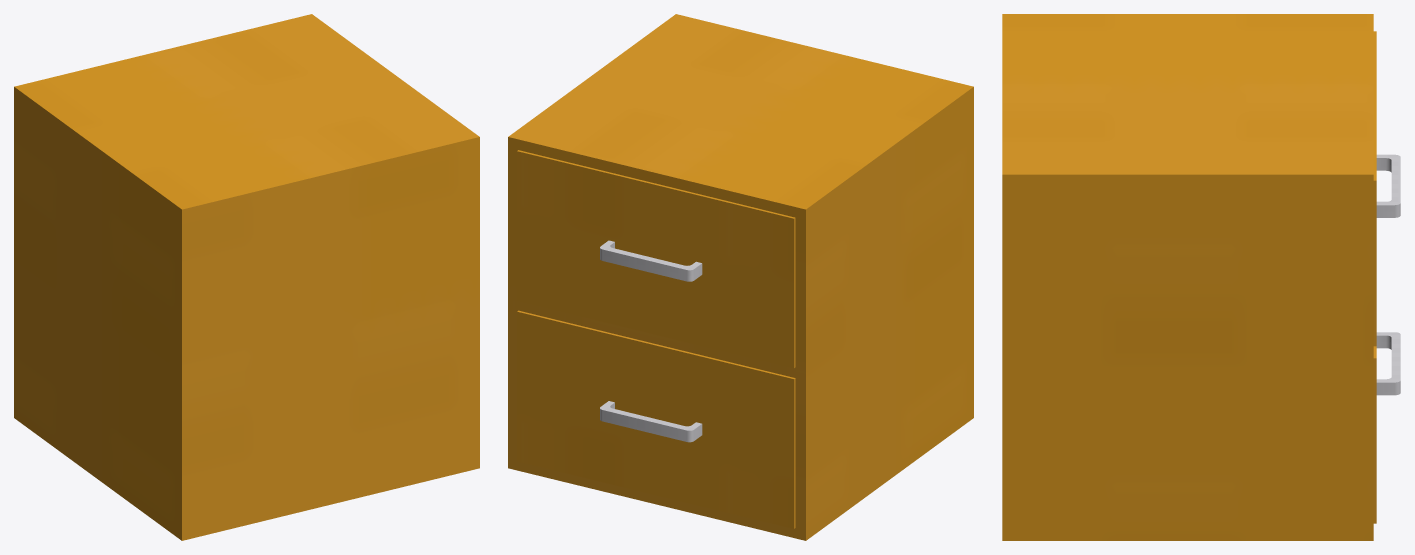
File: Drawer06.glb
The picture shows the model from 3 angles, left to right: view 1: azimuth 30°, elevation 25°; view 2: azimuth 150°, elevation 25°; view 3: azimuth 270°, elevation 25°; orthographic projection. The views are drawn at different scales.
Visible parts, largest first — view 1: Drawer_Body06; view 2: Drawer_Body06, Drawer06_1, Drawer06_2; view 3: Drawer_Body06, Drawer06_1, Drawer06_2.
Boxes of the visible parts, x1,y1,x2,y2 form: Drawer_Body06: [14, 14, 479, 540]; Drawer_Body06: [508, 14, 973, 540]; Drawer06_1: [517, 150, 795, 368]; Drawer06_2: [517, 310, 795, 528]; Drawer_Body06: [1002, 14, 1373, 540]; Drawer06_1: [1373, 31, 1400, 346]; Drawer06_2: [1373, 332, 1400, 523].
Size of the model in its own units: 0.9198 by 0.9779 by 0.9643.
1 material, 1 textured.
